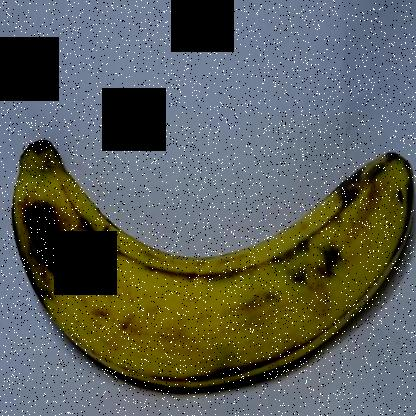ripe: (5, 119, 415, 404)
